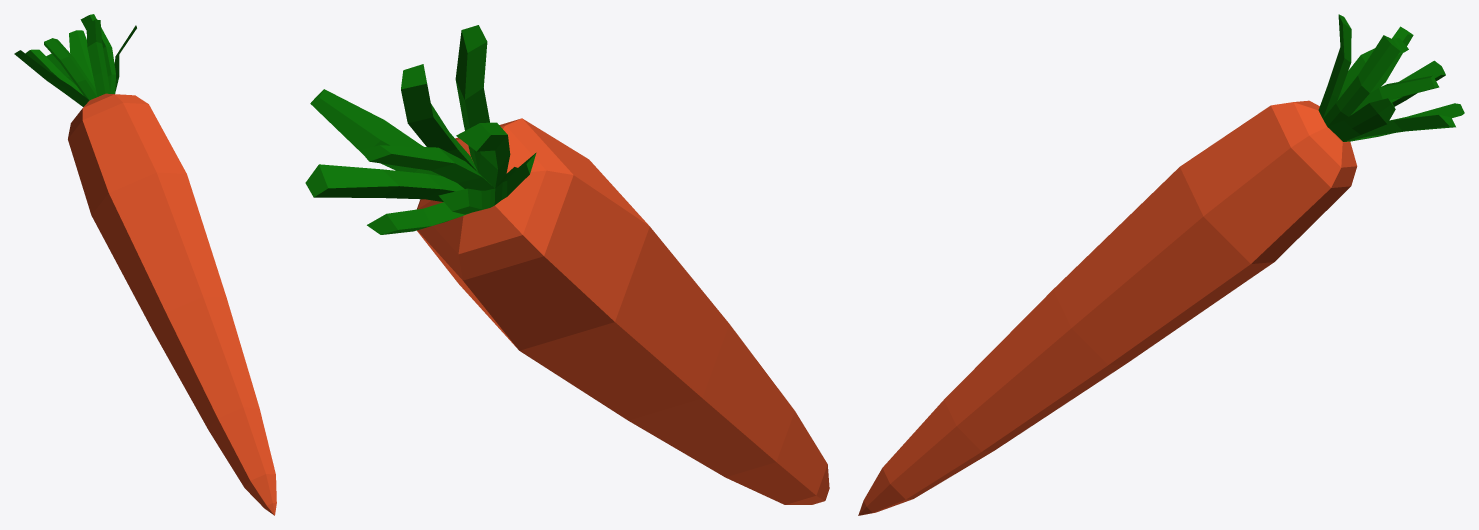
File: Carrot.fbx
3 renders of one model, left to right at view 1: azimuth 30°, elevation 25°; view 2: azimuth 150°, elevation 25°; view 3: azimuth 270°, elevation 25°, orthographic. The views are drawn at different scales.
Parts seen in each view (by area): view 1: Cylinder.003; view 2: Cylinder.003; view 3: Cylinder.003.
Boxes of the visible parts, box(x1,y1,x2,y2) form: Cylinder.003: box(14, 14, 276, 515); Cylinder.003: box(305, 25, 829, 504); Cylinder.003: box(858, 14, 1464, 515).
Bounding box in the file's own units: 32.89 × 99.23 × 109.
